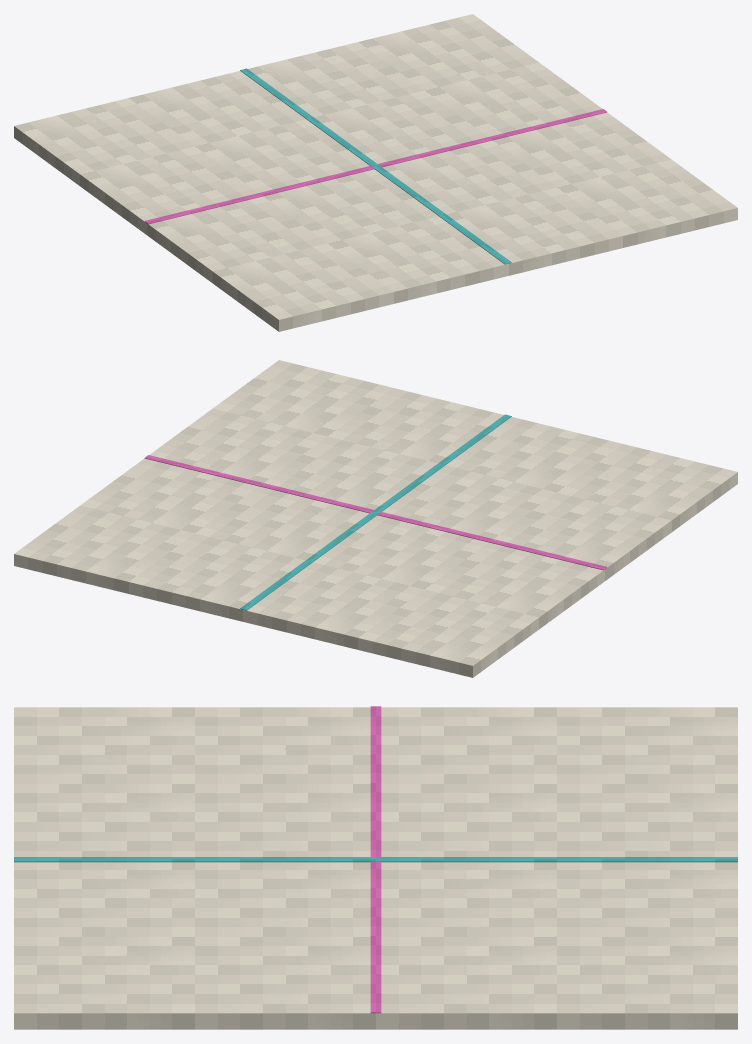
Rendered from three-d-retro-arcade-and-mall-1989-retro-arcade-and-mall-1989-tile-floor-1072196e.glb.
The picture shows the model from 3 angles, top to bottom: view 1: azimuth 30°, elevation 25°; view 2: azimuth 150°, elevation 25°; view 3: azimuth 270°, elevation 25°; orthographic projection. The views are drawn at different scales.
Parts seen in each view (by area): view 1: tile-floor; view 2: tile-floor; view 3: tile-floor.
Part boxes in pixels (x1,y1,x2,y2): tile-floor: (14, 14, 737, 331); tile-floor: (14, 360, 737, 677); tile-floor: (14, 706, 737, 1029).
Size of the model in its own units: 4 by 0.1062 by 4.
Materials: 3 (3 with a texture image).
